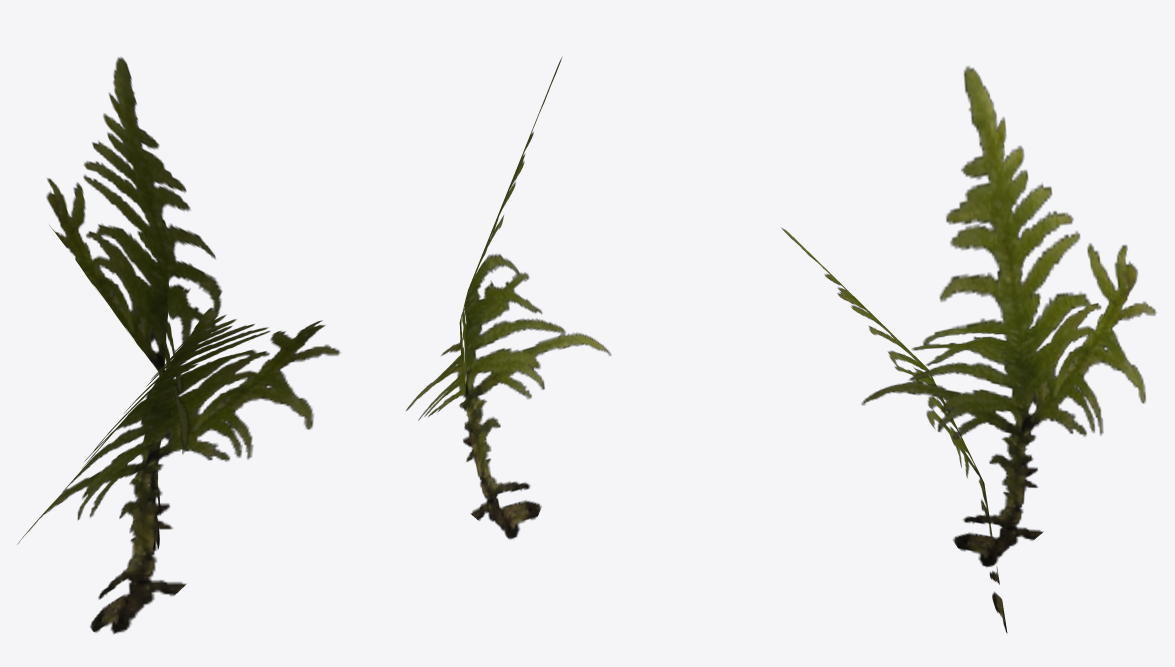
File: moss_01.glb
3 views of the same model, side by side, from view 1: azimuth 30°, elevation 25°; view 2: azimuth 150°, elevation 25°; view 3: azimuth 270°, elevation 25° (orthographic). The views are drawn at different scales.
Visible parts, largest first — view 1: IslandMoss01; view 2: IslandMoss01; view 3: IslandMoss01.
Part boxes in pixels (<box>): IslandMoss01: <box>17,57,340,633</box>; IslandMoss01: <box>406,57,611,539</box>; IslandMoss01: <box>781,66,1156,633</box>.
Bounding box in the file's own units: 0.0136 × 0.0267 × 0.0156.
Materials: 1 (1 with a texture image).
